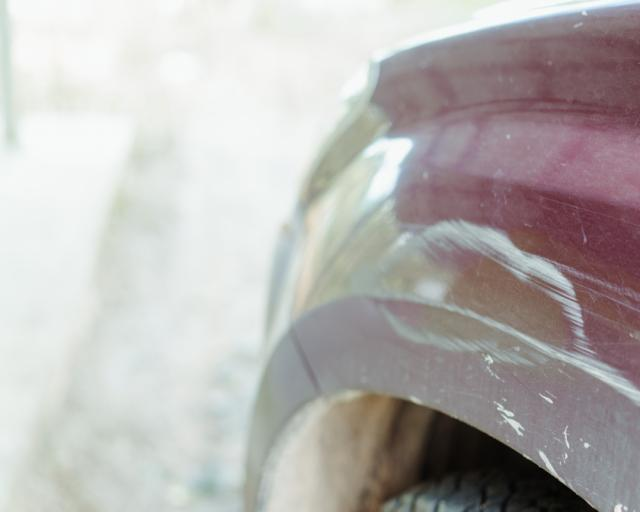scratch: (361, 220, 640, 409)
